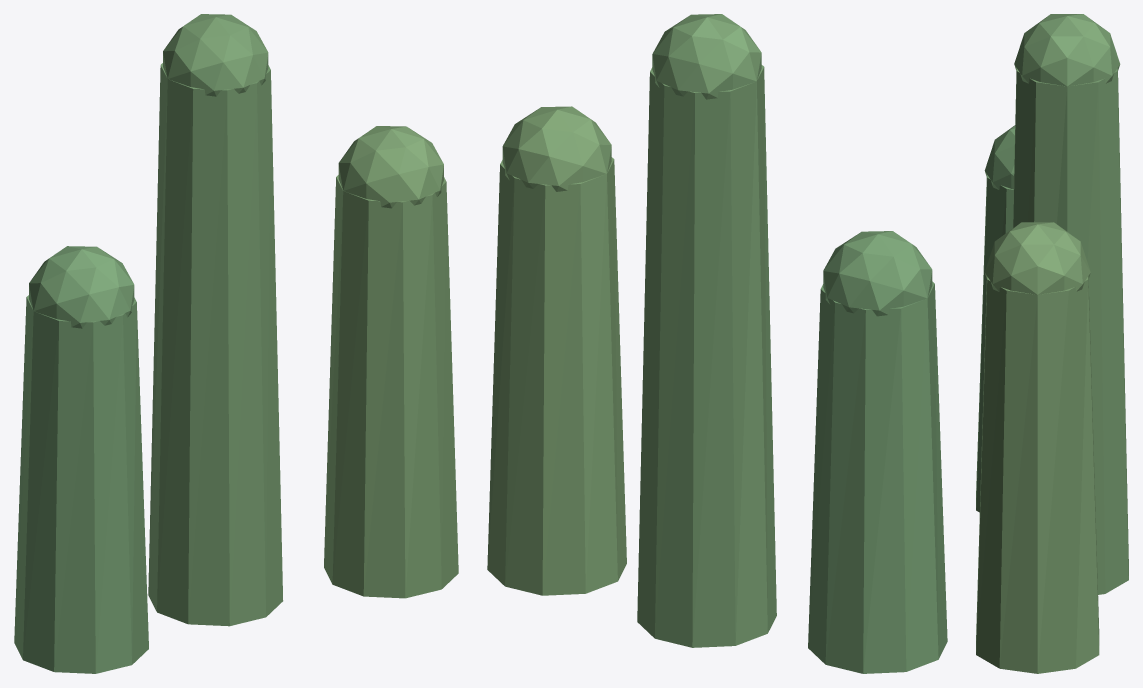
The model's file is cactus_cluster_spires.glb.
The picture shows the model from 3 angles, left to right: view 1: azimuth 30°, elevation 25°; view 2: azimuth 150°, elevation 25°; view 3: azimuth 270°, elevation 25°; orthographic projection. The views are drawn at different scales.
Visible parts, largest first — view 1: stem_1, stem_2, stem_0, tip_1, tip_0, tip_2; view 2: stem_1, stem_2, stem_0, tip_1, tip_2, tip_0; view 3: stem_2, stem_1, tip_2, tip_1, stem_0, tip_0.
Part boxes in pixels (bbox=[...]): stem_1: bbox=[148, 63, 283, 626]; stem_2: bbox=[324, 175, 458, 598]; stem_0: bbox=[14, 295, 148, 673]; tip_1: bbox=[163, 14, 268, 96]; tip_0: bbox=[29, 246, 134, 328]; tip_2: bbox=[338, 126, 443, 208]; stem_1: bbox=[637, 65, 776, 647]; stem_2: bbox=[487, 157, 626, 595]; stem_0: bbox=[808, 281, 947, 673]; tip_1: bbox=[652, 14, 761, 99]; tip_2: bbox=[502, 106, 611, 191]; tip_0: bbox=[823, 231, 932, 316]; stem_2: bbox=[976, 276, 1099, 673]; stem_1: bbox=[1013, 68, 1128, 594]; tip_2: bbox=[984, 222, 1090, 294]; tip_1: bbox=[1014, 14, 1120, 86]; stem_0: bbox=[976, 175, 1013, 512]; tip_0: bbox=[984, 125, 1015, 189].
Size of the model in its own units: 0.8 by 1.04 by 0.2592.
